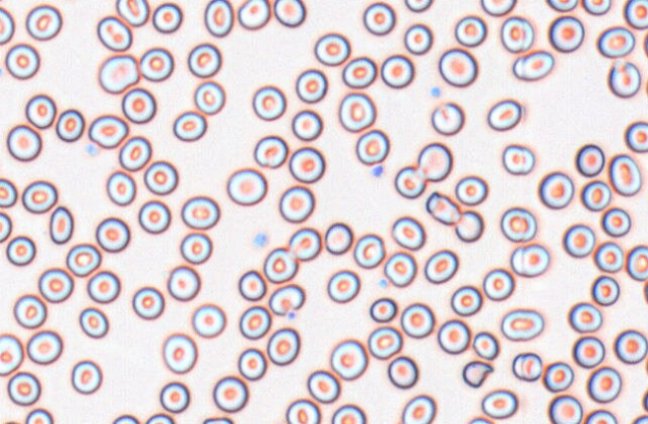PLT: (252, 231, 268, 248), (83, 143, 99, 157), (371, 163, 385, 177), (429, 84, 442, 99), (377, 277, 388, 290)
RBC: (98, 54, 139, 93), (438, 47, 477, 87), (226, 167, 267, 205), (330, 338, 367, 380), (161, 332, 197, 374), (338, 92, 375, 132), (500, 308, 544, 341), (609, 153, 642, 196), (288, 146, 325, 183), (25, 3, 62, 40), (278, 185, 314, 223), (212, 375, 248, 413), (538, 171, 574, 209), (417, 142, 452, 181), (88, 114, 128, 148), (512, 49, 554, 81), (6, 124, 42, 161), (4, 42, 40, 79), (500, 206, 537, 242), (586, 366, 622, 403), (548, 15, 584, 52), (510, 243, 549, 277), (180, 195, 219, 229), (607, 59, 641, 98), (96, 15, 132, 51), (121, 87, 156, 124), (251, 84, 286, 121), (500, 15, 534, 53), (266, 327, 300, 365), (596, 25, 635, 58), (263, 247, 298, 283), (26, 329, 62, 364), (65, 242, 101, 277), (38, 267, 73, 303), (95, 216, 130, 252), (313, 32, 350, 66), (191, 303, 226, 338), (423, 249, 458, 284), (143, 160, 178, 195), (166, 265, 200, 301), (355, 129, 389, 165), (400, 302, 434, 338), (187, 42, 221, 78), (7, 371, 41, 406), (13, 293, 47, 328), (391, 215, 425, 250), (137, 199, 171, 234), (139, 46, 173, 81), (118, 135, 151, 171), (383, 251, 416, 287), (21, 180, 57, 213), (480, 388, 518, 419), (306, 369, 340, 403), (326, 269, 360, 303), (253, 134, 287, 168), (430, 101, 464, 135), (380, 54, 414, 88), (367, 326, 402, 359), (437, 319, 470, 354), (614, 329, 647, 364), (24, 93, 56, 129), (486, 99, 522, 131), (238, 305, 271, 339), (86, 270, 120, 303), (288, 227, 321, 261), (131, 286, 164, 320), (562, 223, 595, 257), (362, 1, 395, 35), (567, 301, 602, 333), (193, 80, 225, 115), (70, 359, 102, 394), (353, 233, 385, 268), (295, 68, 327, 103), (341, 56, 376, 88), (105, 170, 136, 206), (203, 0, 233, 37), (572, 335, 605, 368), (482, 267, 514, 301), (400, 394, 436, 424), (179, 232, 212, 264), (501, 143, 534, 175), (387, 355, 418, 389), (454, 174, 488, 205), (172, 110, 206, 141), (547, 394, 582, 424), (291, 109, 323, 141), (454, 15, 486, 47), (394, 165, 425, 198), (237, 347, 267, 381), (575, 143, 605, 177), (159, 381, 190, 413), (450, 285, 482, 316), (580, 179, 611, 211), (454, 209, 484, 242), (237, 0, 270, 30), (0, 332, 23, 375), (55, 108, 84, 142), (48, 205, 73, 244), (151, 2, 182, 33), (543, 361, 574, 392), (5, 235, 36, 266), (78, 306, 108, 338), (594, 241, 624, 273), (601, 206, 631, 237), (237, 269, 266, 301), (324, 222, 353, 254), (591, 274, 620, 306), (403, 23, 432, 55), (285, 398, 320, 424), (511, 352, 542, 381), (115, 0, 149, 26), (273, 0, 305, 27), (626, 244, 648, 281), (472, 331, 499, 360), (624, 120, 648, 152), (330, 403, 366, 424), (369, 296, 397, 322), (624, 0, 648, 29), (480, 0, 516, 16), (0, 6, 14, 45), (0, 177, 17, 208), (583, 409, 617, 424), (24, 408, 53, 424), (581, 0, 611, 15), (545, 0, 578, 12), (0, 211, 12, 243), (403, 0, 433, 12), (144, 413, 174, 423), (111, 414, 140, 424), (201, 416, 234, 424), (466, 416, 495, 424), (630, 413, 648, 424), (642, 386, 648, 413), (643, 28, 648, 58), (643, 277, 648, 307), (644, 67, 648, 100), (644, 351, 648, 378), (0, 48, 3, 79), (645, 182, 648, 213), (1, 420, 23, 424), (268, 420, 290, 424)
Schistocyte: (425, 191, 461, 225), (268, 284, 305, 316), (462, 359, 494, 389)
